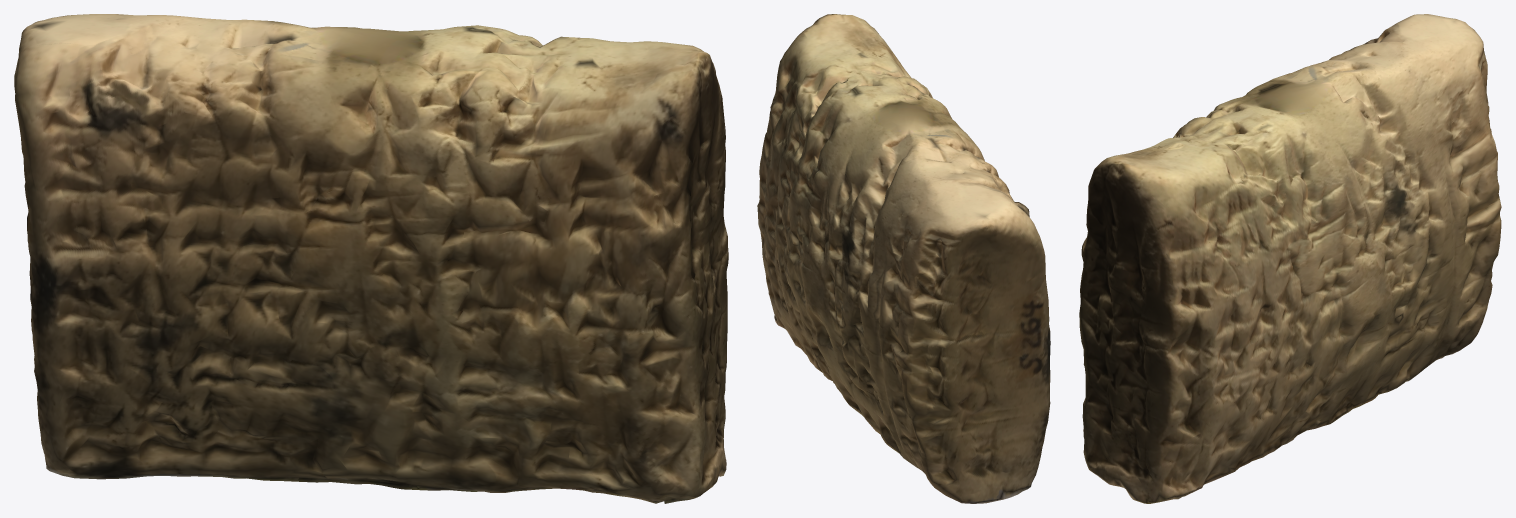
The model's file is old-babylonian_cuneiform_tablet_s264.glb.
3 views of the same model, side by side, from view 1: azimuth 30°, elevation 25°; view 2: azimuth 150°, elevation 25°; view 3: azimuth 270°, elevation 25° (orthographic). The views are drawn at different scales.
Visible parts, largest first — view 1: Object_2; view 2: Object_2; view 3: Object_2.
Part boxes in pixels (box(x1,y1,x2,y2)): Object_2: box(14, 14, 728, 503); Object_2: box(757, 14, 1050, 503); Object_2: box(1079, 14, 1501, 503).
Bounding box in the file's own units: 20.98 × 16.18 × 18.64.
1 material, 1 textured.
